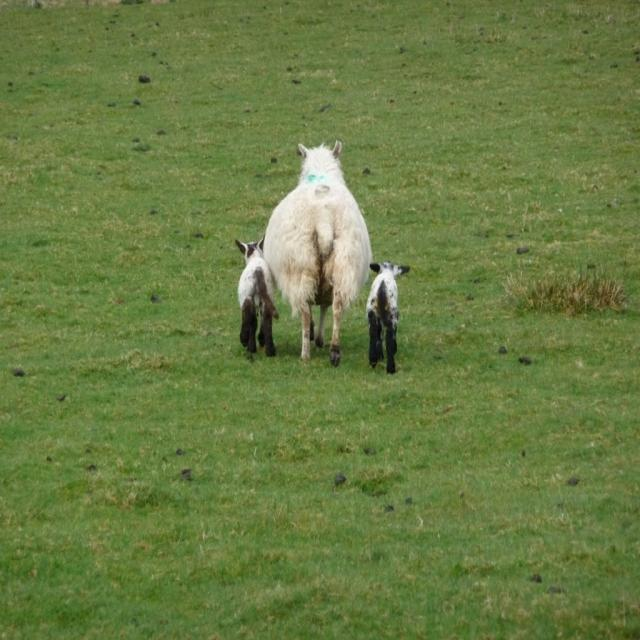Sheep: (264, 137, 374, 364), (363, 258, 412, 375), (235, 239, 275, 357)
